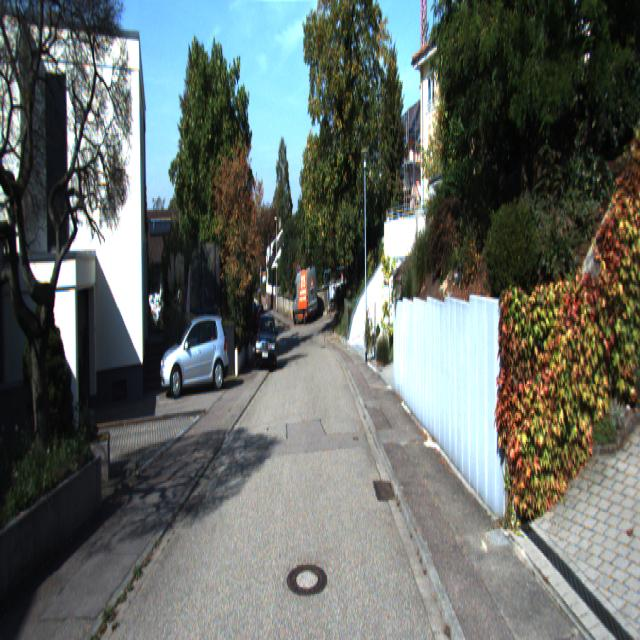Car: (160, 313, 230, 399), (254, 315, 278, 372)
Van: (292, 268, 318, 326)
